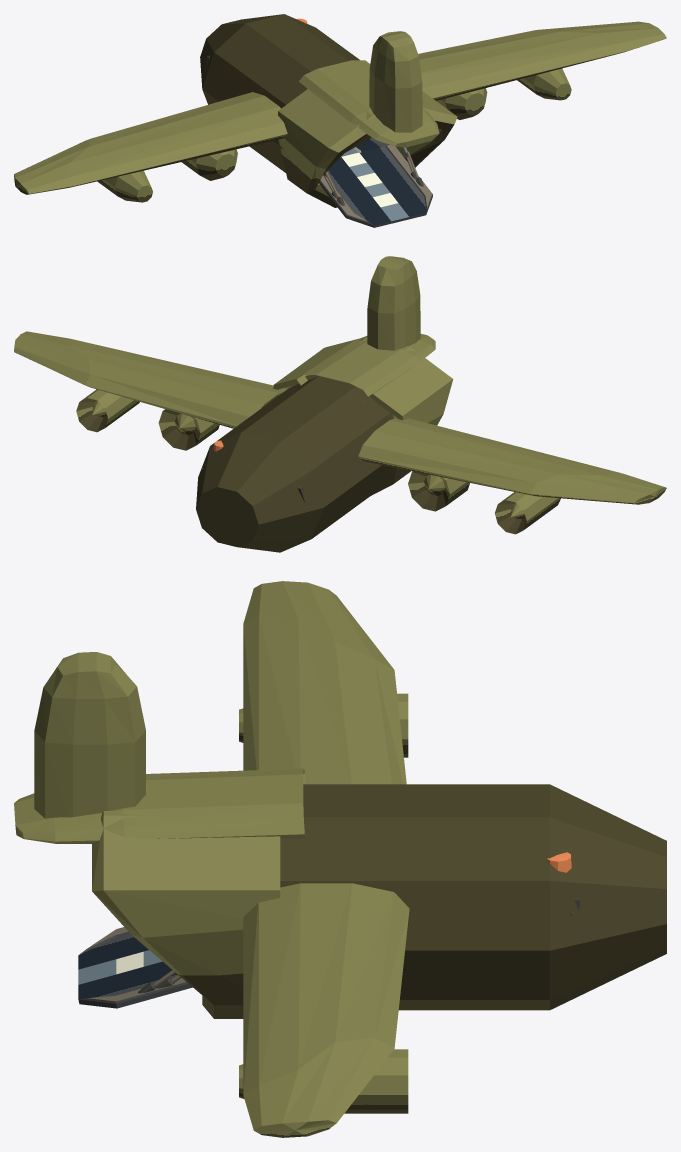
The model's file is EstructuraBase.FBX.
3 views of the same model, one above another, from view 1: azimuth 30°, elevation 25°; view 2: azimuth 150°, elevation 25°; view 3: azimuth 270°, elevation 25° (orthographic). The views are drawn at different scales.
Parts seen in each view (by area): view 1: aviones; view 2: aviones; view 3: aviones.
Boxes of the visible parts, <box> form: aviones: <box>14,14,666,227</box>; aviones: <box>14,256,666,552</box>; aviones: <box>14,581,666,1137</box>.
Bounding box in the file's own units: 7249 × 3689 × 2083.
Materials: 1 (1 with a texture image).
